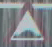Speed Breaker ahead: (6, 4, 49, 44)
